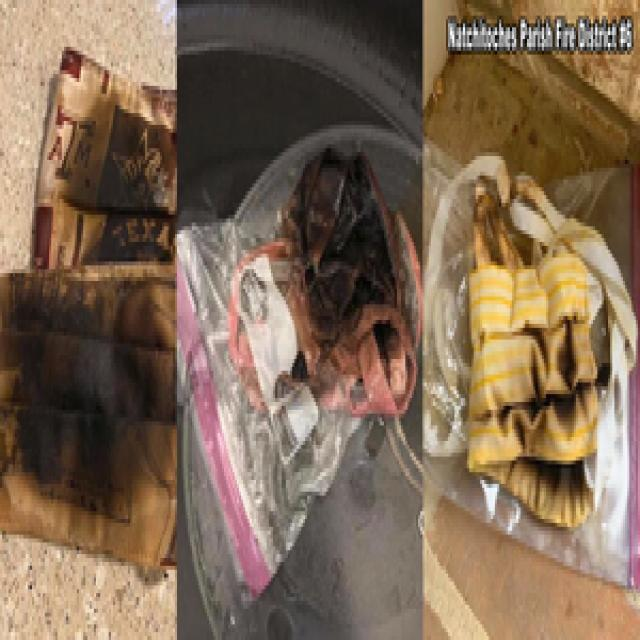non-organic waste: (469, 164, 602, 511)
